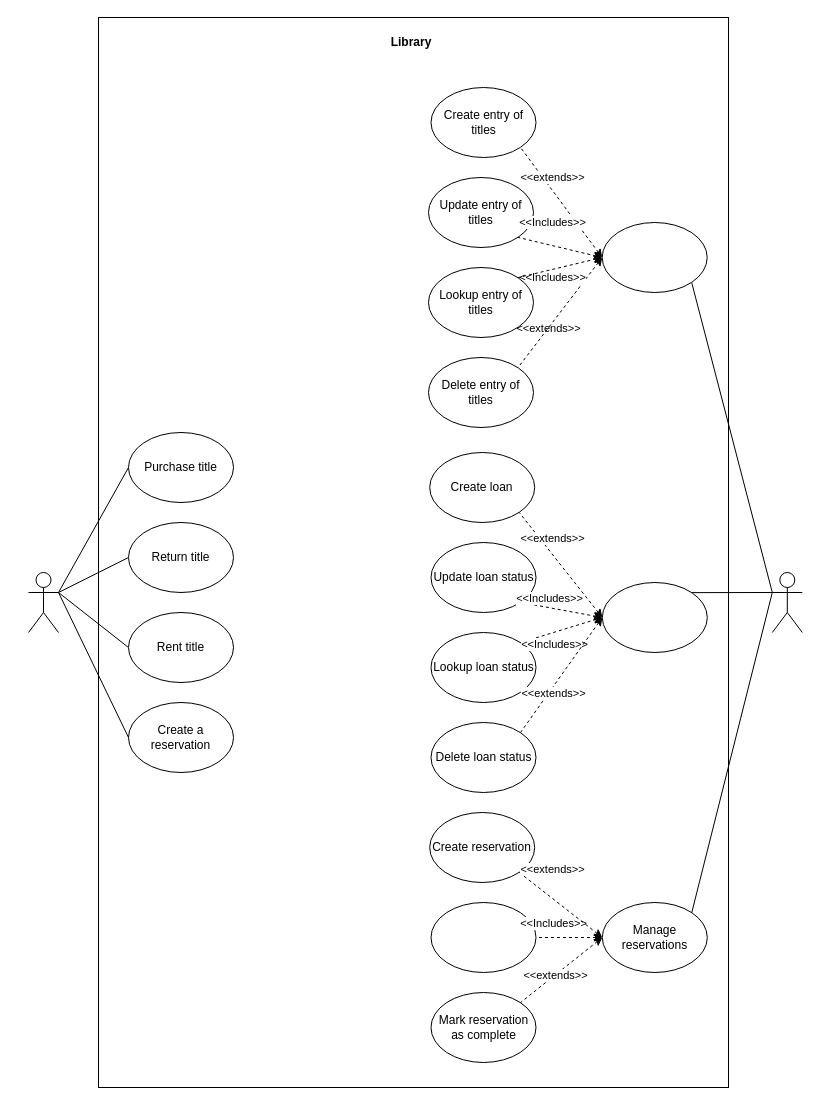
This 828x1105 diagram has some shape labels left out. Each missing label, with the centre of its shape:
Cancel reservation status: point 483,937
Customer: point 43,602
Librarian: point 786,602
Manage loans: point 654,617
Manage titles: point 654,257
